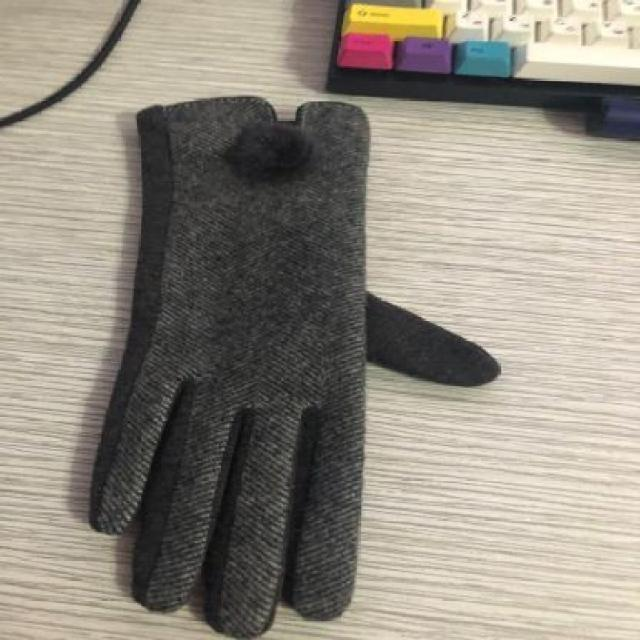glove: (85, 88, 503, 630)
